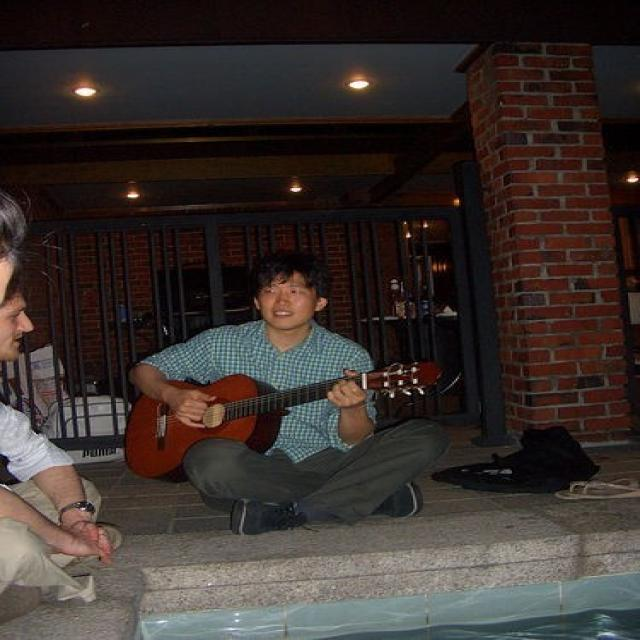guitar: (120, 359, 442, 482)
